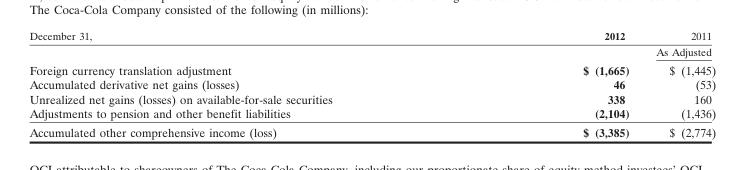table: (28, 29, 715, 139)
table column: (28, 29, 456, 139), (456, 29, 642, 139), (642, 29, 715, 139)
table column header: (28, 29, 715, 60)
table row: (28, 29, 715, 60), (28, 60, 715, 77), (28, 105, 715, 122), (28, 122, 715, 139), (28, 77, 715, 91), (28, 91, 715, 105)
